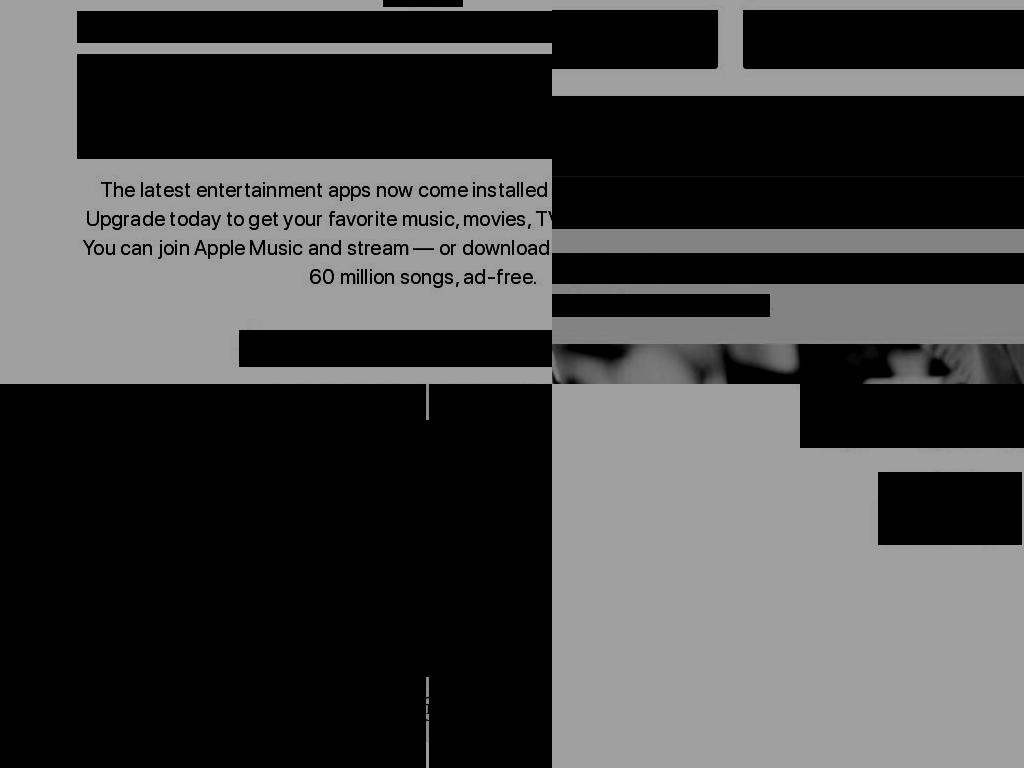button: (743, 10, 1024, 65), (239, 330, 552, 367), (552, 10, 718, 65), (784, 177, 945, 229), (609, 177, 708, 229), (30, 637, 53, 660), (65, 637, 88, 660), (100, 637, 123, 660), (136, 637, 159, 660), (171, 637, 194, 660), (206, 637, 229, 660), (241, 637, 264, 660), (276, 637, 299, 660), (347, 637, 370, 660), (382, 637, 405, 660), (417, 637, 440, 660), (452, 637, 475, 660), (487, 637, 510, 660), (523, 637, 546, 660), (312, 637, 334, 660), (0, 637, 18, 660)
field: (0, 521, 327, 560), (332, 521, 400, 560)
heading: (77, 54, 552, 159), (77, 11, 552, 43), (552, 253, 1024, 284)
image: (0, 384, 400, 506), (800, 384, 1024, 448), (878, 472, 950, 545), (950, 472, 1022, 545)
link: (429, 384, 552, 768), (552, 294, 770, 317), (44, 618, 105, 634), (214, 572, 252, 588), (102, 572, 134, 588), (176, 572, 207, 588), (360, 572, 391, 588), (140, 572, 169, 588), (323, 572, 352, 588), (8, 618, 37, 634), (260, 572, 285, 588), (292, 572, 317, 588)
text: (0, 384, 426, 768), (77, 174, 552, 291), (800, 193, 929, 213), (0, 569, 95, 591), (625, 193, 692, 213)
